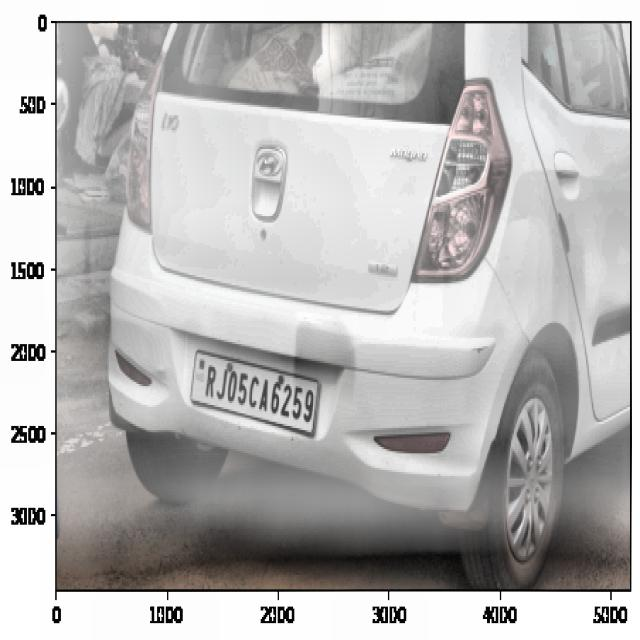license_plate: (203, 360, 317, 431)
